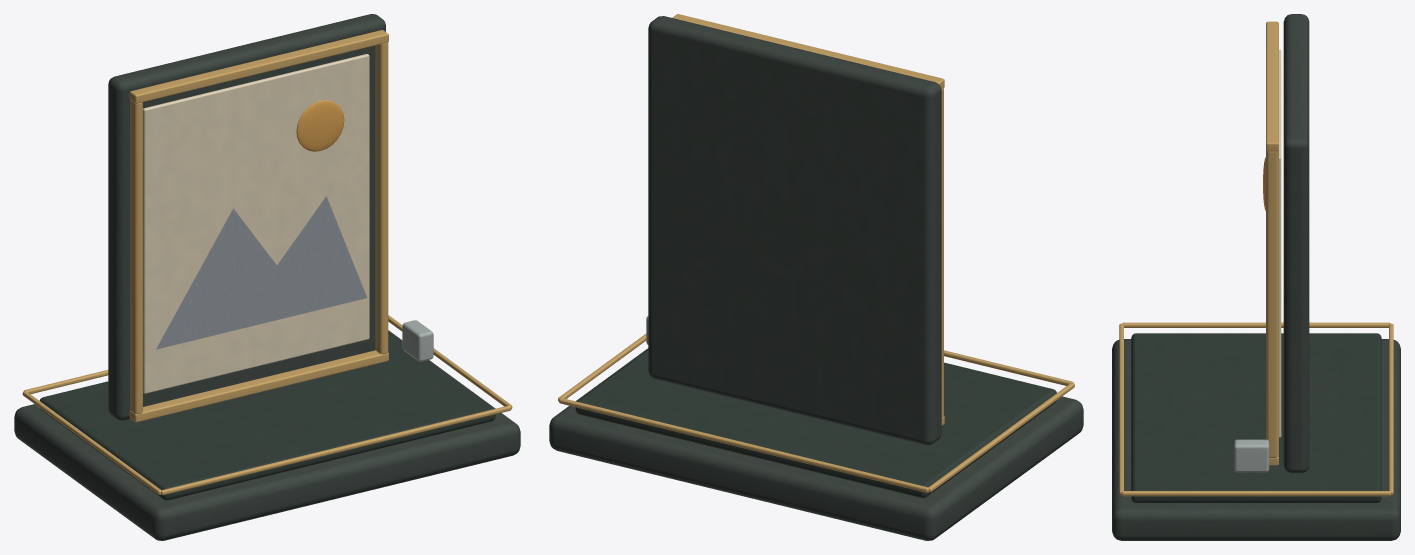
Rendered from photo-frame.glb.
3 views of the same model, side by side, from view 1: azimuth 30°, elevation 25°; view 2: azimuth 150°, elevation 25°; view 3: azimuth 270°, elevation 25° (orthographic). The views are drawn at different scales.
Parts seen in each view (by area): view 1: photo_plane, felt_insert, display_base, frame_back, image_mountains, frame_side.001, frame_side, frame_edge.001, frame_edge, brass_rim_Front, image_moon, metadata_button (+2 smaller); view 2: frame_back, felt_insert, display_base, brass_rim_Back, frame_edge.001, brass_rim_Left, frame_side, brass_rim_Front, brass_rim_Right; view 3: felt_insert, display_base, frame_back, frame_side.001, frame_edge.001, brass_rim_Right, brass_rim_Left, metadata_button, photo_plane, brass_rim_Back, brass_rim_Front.
Part boxes in pixels (left/top/right/bottom): photo_plane: left=143, top=54, right=369, bottom=393; felt_insert: left=39, top=331, right=495, bottom=500; display_base: left=14, top=330, right=520, bottom=540; frame_back: left=108, top=14, right=385, bottom=420; image_mountains: left=156, top=196, right=366, bottom=349; frame_side.001: left=375, top=42, right=388, bottom=354; frame_side: left=130, top=100, right=142, bottom=414; frame_edge.001: left=129, top=30, right=388, bottom=103; frame_edge: left=129, top=350, right=388, bottom=422; brass_rim_Front: left=161, top=405, right=511, bottom=495; image_moon: left=296, top=100, right=344, bottom=151; metadata_button: left=402, top=320, right=433, bottom=361; frame_back: left=648, top=16, right=941, bottom=445; felt_insert: left=575, top=350, right=1056, bottom=498; display_base: left=549, top=348, right=1083, bottom=540; brass_rim_Back: left=559, top=398, right=928, bottom=492; frame_edge.001: left=672, top=14, right=944, bottom=89; brass_rim_Left: left=928, top=383, right=1074, bottom=492; frame_side: left=941, top=88, right=943, bottom=417; brass_rim_Front: left=944, top=350, right=1073, bottom=385; brass_rim_Right: left=558, top=334, right=646, bottom=401; felt_insert: left=1131, top=333, right=1381, bottom=502; display_base: left=1112, top=339, right=1400, bottom=540; frame_back: left=1283, top=14, right=1309, bottom=473; frame_side.001: left=1266, top=150, right=1278, bottom=457; frame_edge.001: left=1266, top=21, right=1278, bottom=151; brass_rim_Right: left=1121, top=491, right=1391, bottom=496; brass_rim_Left: left=1122, top=322, right=1390, bottom=327; metadata_button: left=1234, top=439, right=1269, bottom=472; photo_plane: left=1279, top=49, right=1281, bottom=437; brass_rim_Back: left=1389, top=323, right=1393, bottom=495; brass_rim_Front: left=1119, top=323, right=1123, bottom=495.
Bounding box in the file's own units: 0.26 × 0.261 × 0.18.
Materials: 7 (4 with a texture image).
